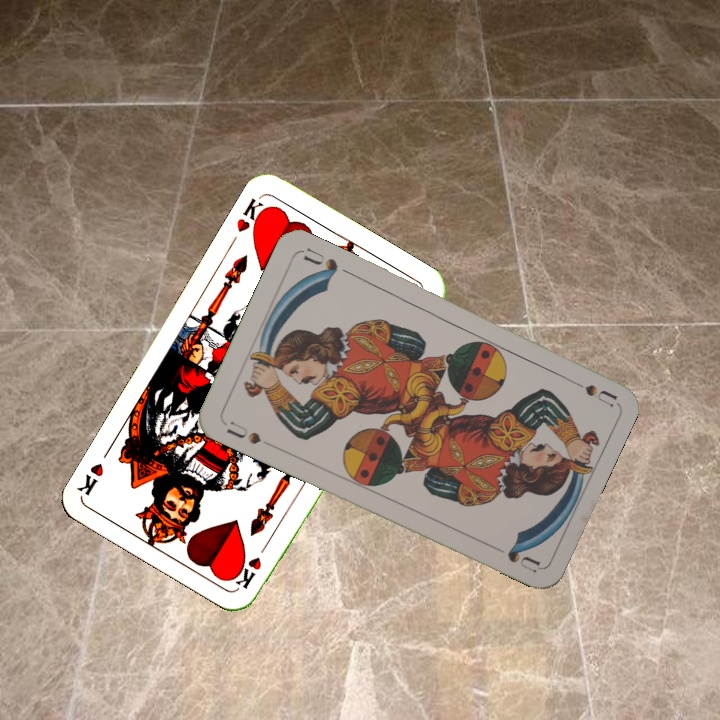HK: (233, 536, 273, 592), (232, 194, 272, 237)
SU: (561, 372, 618, 409), (222, 416, 264, 448)
